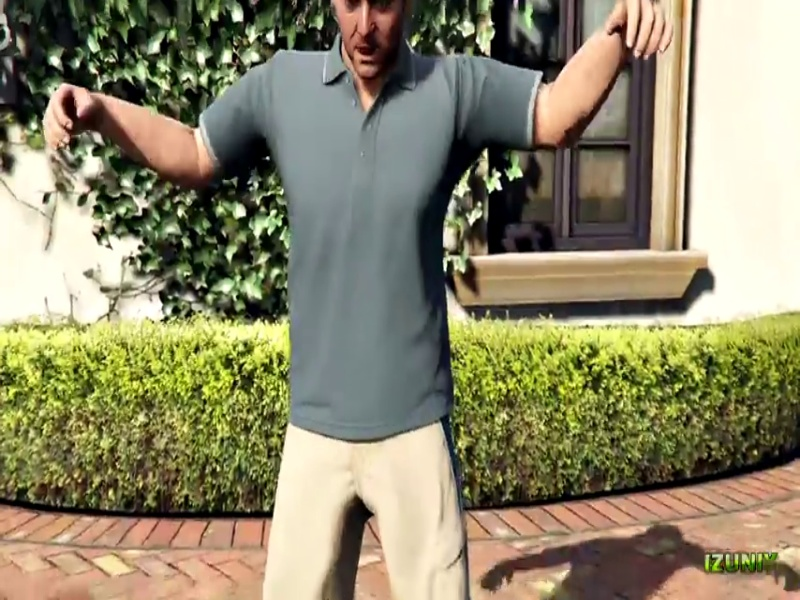human: (30, 0, 698, 584)
